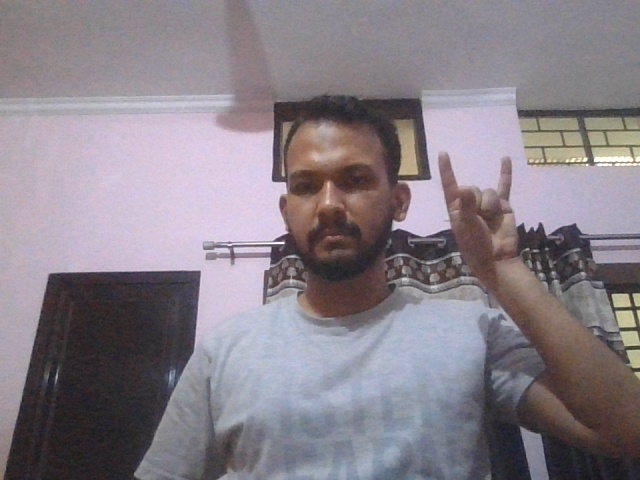iloveyou: (436, 153, 521, 264)
